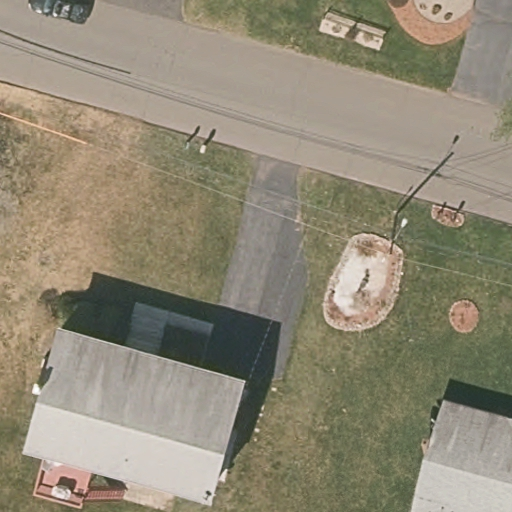DT: (385, 207, 406, 258)
